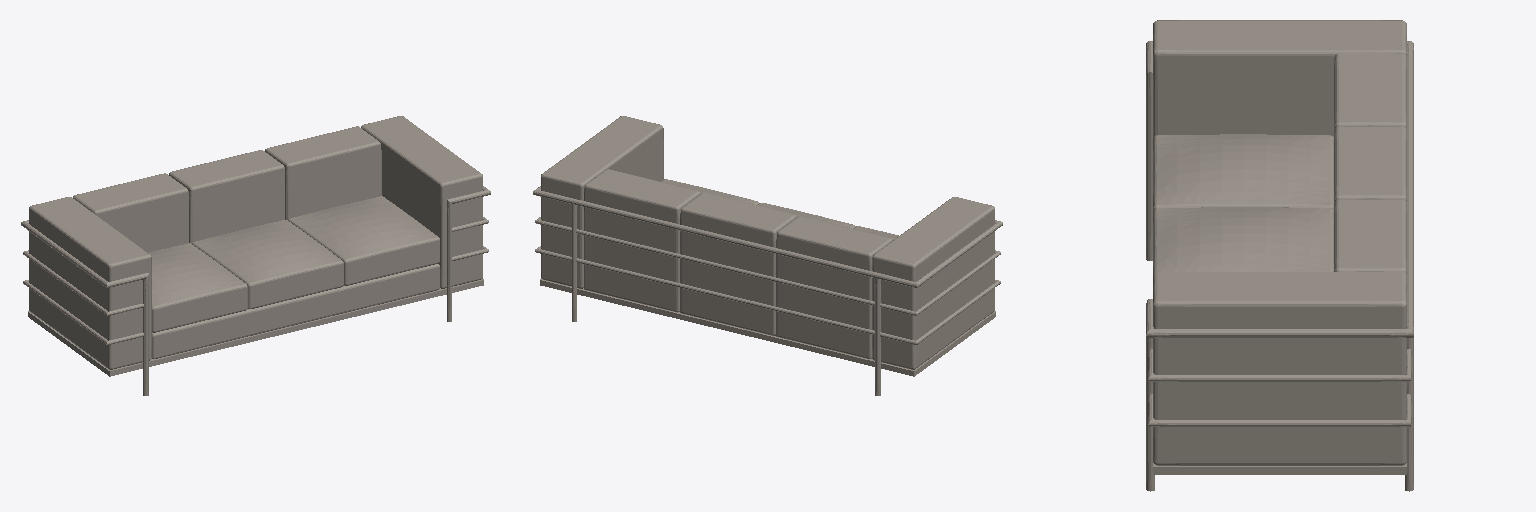
URDF robot description (sofa_corbusier):
<robot
  name="sofa_corbusier">
  <link
    name="sofa_corbusier">
    <inertial>
      <origin
        xyz="9.0652E-06 0.03412 0.21913"
        rpy="0 0 0" />
      <mass
        value="4320.4" />
      <inertia
        ixx="281.852014457534"
        ixy="0.00857244290455591"
        ixz="-0.00750660439928926"
        iyy="1540.23131489387"
        iyz="-28.197115226219"
        izz="1644.55814123264" />
    </inertial>
    <visual>
      <origin
        xyz="0 0 0"
        rpy="0 0 0" />
      <geometry>
        <mesh
          filename="package://sofa_corbusier/meshes/sofa_corbusier.dae" />
      </geometry>
      <material
        name="">
        <color
          rgba="0.64706 0.61961 0.58824 1" />
      </material>
    </visual>
    <collision>
      <origin
        xyz="0 0 0"
        rpy="0 0 0" />
      <geometry>
        <mesh
          filename="package://sofa_corbusier/meshes/sofa_corbusier.dae" />
      </geometry>
    </collision>
  </link>
</robot>

--- What the picture shows (computed from the rendered views, not written in the file) ---
The picture shows the robot from 3 angles, left to right: view 1: azimuth 30°, elevation 25°; view 2: azimuth 150°, elevation 25°; view 3: azimuth 270°, elevation 25°; orthographic projection.
Robot: sofa_corbusier — 1 links, 0 joints (none); root link sofa_corbusier; default pose: all joints at 0.
Visible links, largest first — view 1: sofa_corbusier; view 2: sofa_corbusier; view 3: sofa_corbusier.
Boxes of the visible links, <box> form: sofa_corbusier: <box>21,116,490,395</box>; sofa_corbusier: <box>533,116,1002,395</box>; sofa_corbusier: <box>1146,20,1413,491</box>.
Bounding box of the posed robot: 1.93 × 0.7493 × 0.6604 m (x, y, z).
Meshes: 1 distinct files referenced, 1 mesh visuals loaded (1 Collada DAE).
